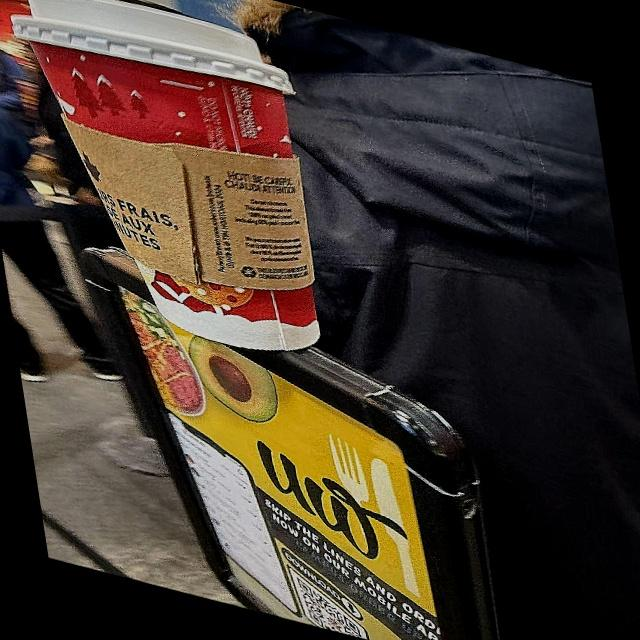Timmies: (0, 0, 348, 382)
